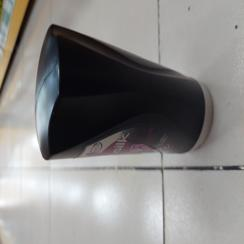sunsilk black: (28, 23, 215, 164)
